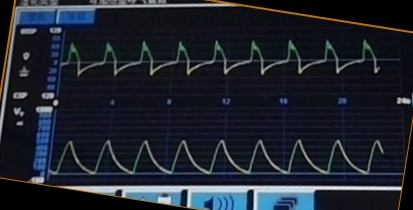Accumulation Flow: (65, 32, 388, 93)
Volume: (55, 124, 395, 183)
